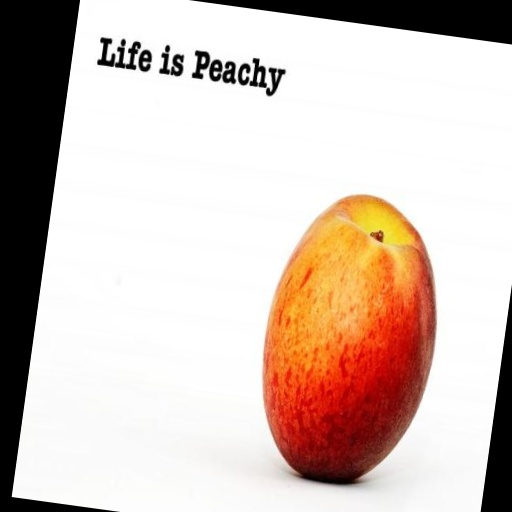fruit: (263, 195, 436, 481)
